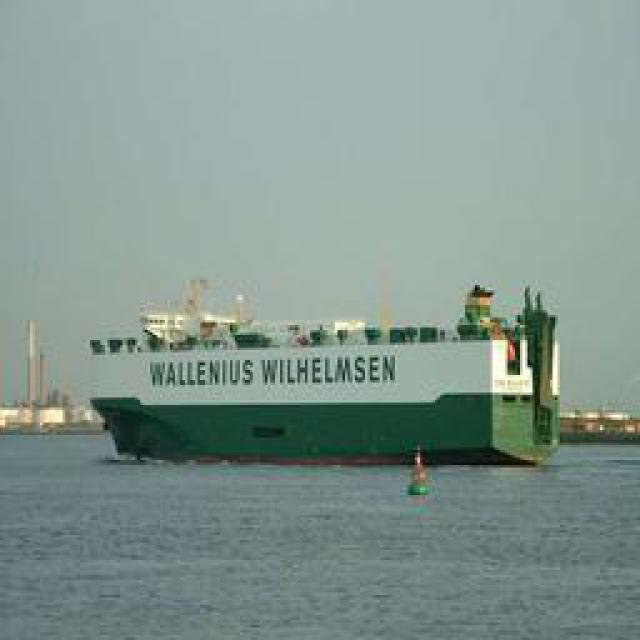Ship: (77, 271, 565, 474)
